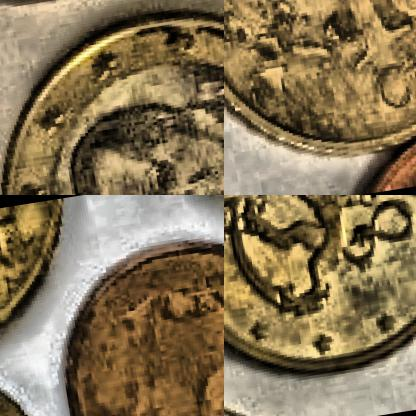coin: (0, 0, 223, 194), (224, 195, 415, 394), (36, 219, 223, 415), (224, 0, 415, 180)
